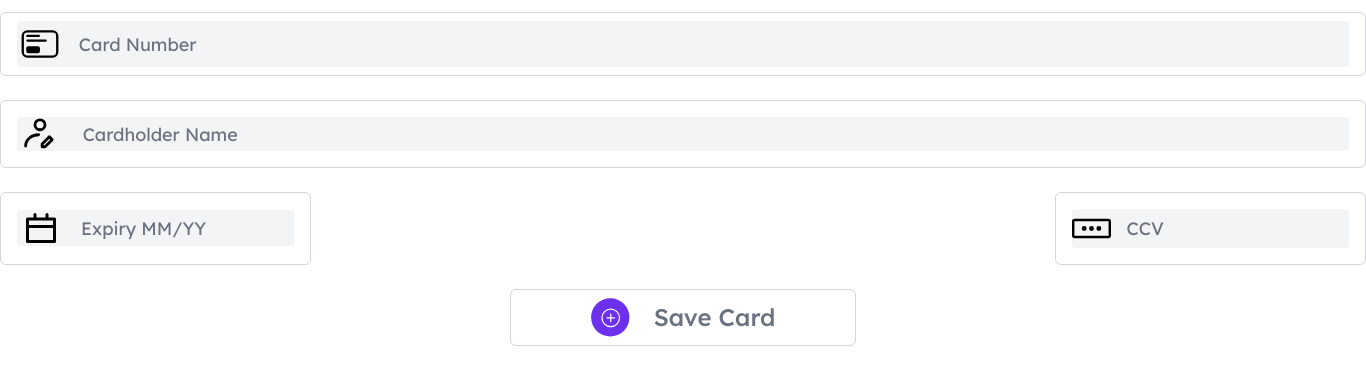
Scenario: CardInput Component › shows error for invalid card type
The width and height of the screenshot is (1366, 367).
Type "1234567890123456" into the field with placeholder "Card Number" at (714, 44), box [79,32,1349,56]
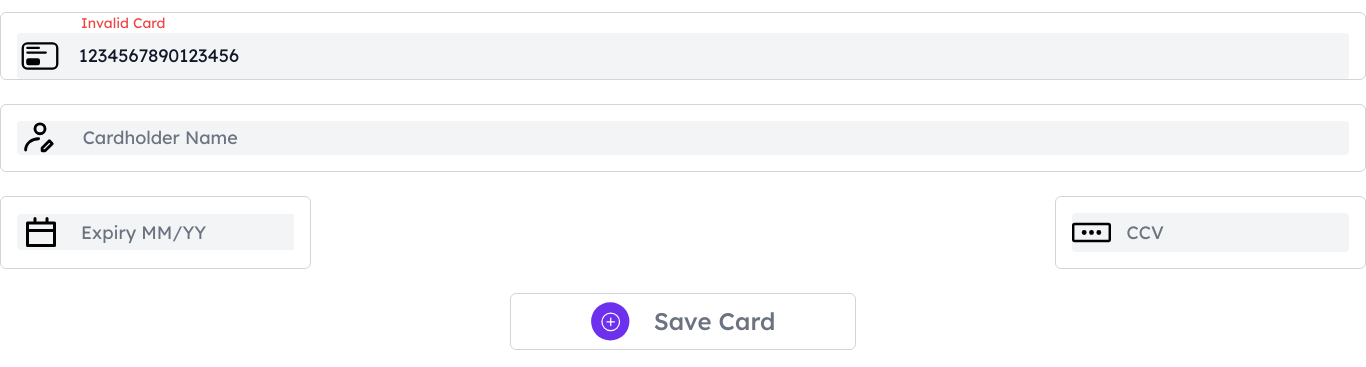
Expected: the text "Invalid Card" is shown, [81,14,166,32]
